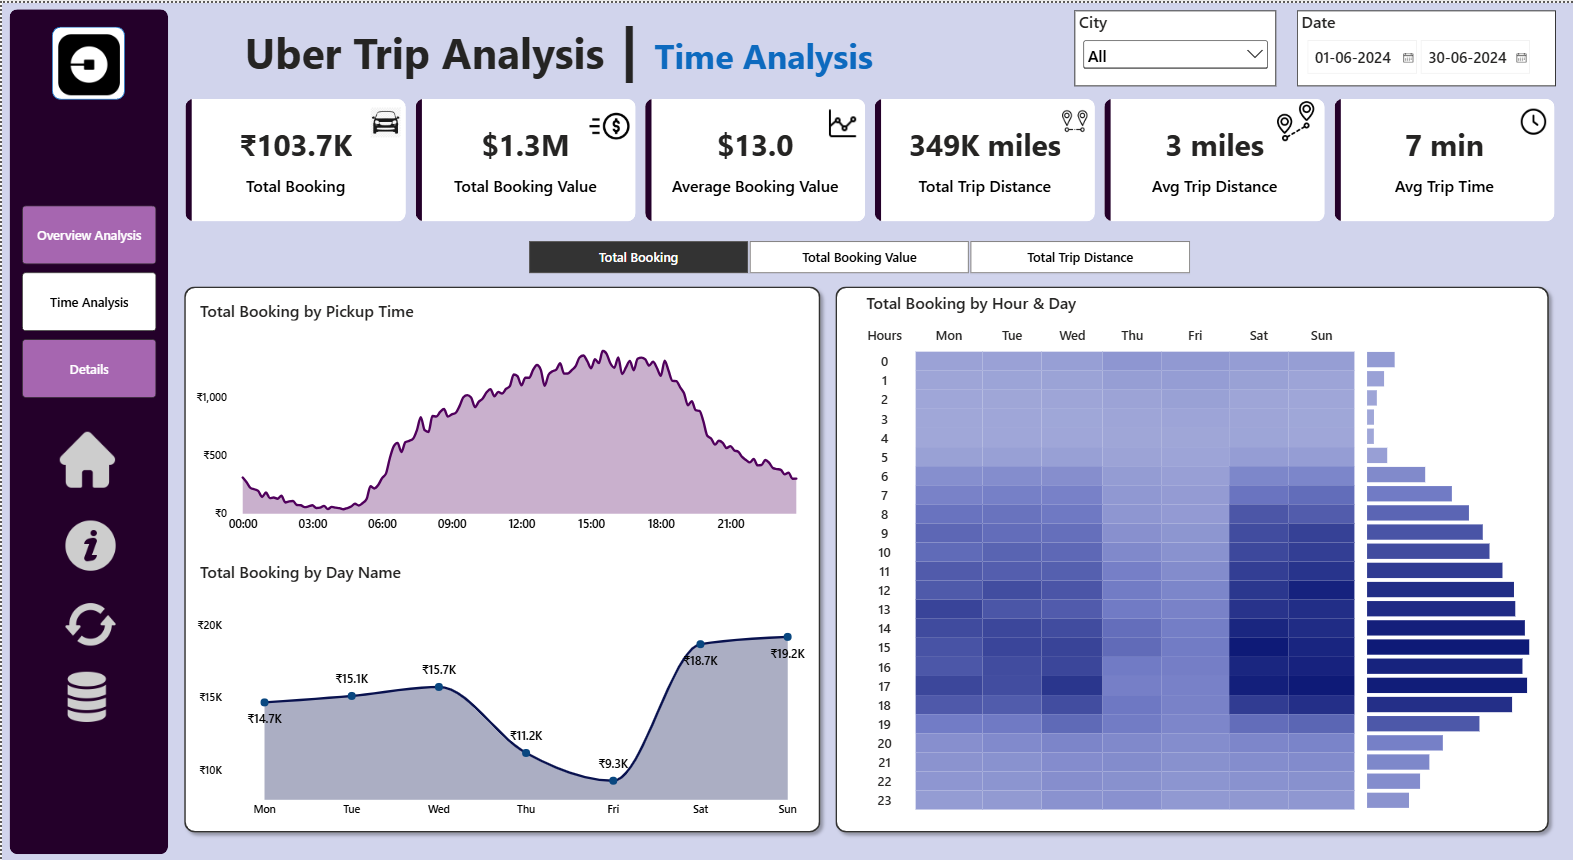

The dashboard page shown, as its layout file describes it:
{"tool":"powerbi","page":{"name":"Time Analysis","canvas":[1980,1080],"ordinal":1},"visuals":[{"type":"shape","box":[9,7.2,199.7,1063],"z":0},{"type":"shape","box":[63,30.6,91.7,91.7],"z":0,"group":"g1"},{"type":"slicer","title":"City","fields":{"Values":["Location Table.City"]},"box":[1349,9,253.6,95.3],"z":1000},{"type":"image","box":[70.2,37.8,77.3,80],"z":1000,"group":"g1"},{"type":"slicer","title":"Date","fields":{"Values":["Calendar.Date"]},"box":[1629.6,9,325.6,95.3],"z":2000},{"type":"textbox","box":[219.4,0,960.5,129.5],"z":3000},{"type":"cardVisual","fields":{"Data":["Trip Details.Total Booking","Trip Details.Total Booking Value","Trip Details.Average Booking Value","Trip Details.Total Trip Distance","Trip Details.Avg Trip Distance","Trip Details.Avg Trip Time"]},"box":[214,104.3,1760.9,188.9],"z":4000},{"type":"shape","box":[219.4,347.1,818.4,705.1],"z":5000},{"type":"slicer","fields":{"Values":["Dynamic Messure .Dynamic Messure "]},"box":[636.7,293.2,881.4,54],"z":6000},{"type":"image","box":[739.3,129.5,50.4,52.2],"z":7000},{"type":"image","box":[1037.8,129.5,39.6,45],"z":8000},{"type":"image","box":[1332.8,129.5,32.4,39.6],"z":9000},{"type":"image","box":[1604.4,122.3,50.4,52.2],"z":10000},{"type":"image","box":[1910.2,131.3,32.4,37.8],"z":11000},{"type":"image","box":[464.1,125.9,37.8,48.6],"z":12000},{"type":"areaChart","fields":{"Y":["Trip Details.Total Booking"],"Category":["Trip Details.Pickup Time (bins)"]},"box":[239.2,422.7,782.4,253.6],"z":13000},{"type":"cardVisual","fields":{"Data":["Trip Details.Titel for pickup time"]},"box":[219.4,347.1,401.1,75.5],"z":14000},{"type":"areaChart","fields":{"Y":["Trip Details.Total Booking"],"Category":["Calendar.Day Name"]},"box":[241,768,796.8,266.2],"z":15000},{"type":"cardVisual","fields":{"Data":["Trip Details.Titel for Day Name"]},"box":[219.4,676.3,395.7,75.5],"z":16000},{"type":"shape","box":[1039.6,347.1,915.5,705.1],"z":17000},{"type":"pivotTable","fields":{"Values":["Trip Details.Total Booking"],"Rows":["Trip Details.Pickup Hours"],"Columns":["Calendar.Day Name"]},"box":[1066.6,399.3,645.7,634.9],"z":18000},{"type":"barChart","fields":{"Y":["Trip Details.Total Booking"],"Category":["Trip Details.Pickup Hours"]},"box":[1712.4,426.3,214,591.8],"z":19000},{"type":"cardVisual","fields":{"Data":["Trip Details.Titel for Hour & Day"]},"box":[1057.6,338.2,401.1,75.5],"z":20000},{"type":"group","id":"g1","title":"Group 1","box":[63,30.6,91.7,91.7],"z":21000},{"type":"pageNavigator","box":[25.2,255.4,169.1,244.6],"z":22000},{"type":"image","box":[54,539.6,107.9,70.1],"z":23000},{"type":"image","box":[57.6,651.1,106.1,63],"z":24000},{"type":"image","box":[57.6,750.1,106.1,63],"z":25000},{"type":"image","box":[54,841.8,106.1,63],"z":26000}]}

Visuals, with their boxes on the page's 1980x1080 design canvas (x1, y1, x2, y2). These are canvas units, not pixel positions in the 1573x860 screenshot, which may show the page scaled, cropped or inside an application window:
shape: {"left": 9, "top": 7, "right": 209, "bottom": 1070}
shape: {"left": 63, "top": 31, "right": 155, "bottom": 122}
"City" slicer: {"left": 1349, "top": 9, "right": 1603, "bottom": 104}
image: {"left": 70, "top": 38, "right": 148, "bottom": 118}
"Date" slicer: {"left": 1630, "top": 9, "right": 1955, "bottom": 104}
textbox: {"left": 219, "top": 0, "right": 1180, "bottom": 130}
cardVisual - Trip Details.Total Booking x Trip Details.Total Booking Value: {"left": 214, "top": 104, "right": 1975, "bottom": 293}
shape: {"left": 219, "top": 347, "right": 1038, "bottom": 1052}
slicer - Dynamic Messure .Dynamic Messure : {"left": 637, "top": 293, "right": 1518, "bottom": 347}
image: {"left": 739, "top": 130, "right": 790, "bottom": 182}
image: {"left": 1038, "top": 130, "right": 1077, "bottom": 174}
image: {"left": 1333, "top": 130, "right": 1365, "bottom": 169}
image: {"left": 1604, "top": 122, "right": 1655, "bottom": 174}
image: {"left": 1910, "top": 131, "right": 1943, "bottom": 169}
image: {"left": 464, "top": 126, "right": 502, "bottom": 174}
areaChart - Trip Details.Total Booking x Trip Details.Pickup Time (bins): {"left": 239, "top": 423, "right": 1022, "bottom": 676}
cardVisual - Trip Details.Titel for pickup time: {"left": 219, "top": 347, "right": 620, "bottom": 423}
areaChart - Trip Details.Total Booking x Calendar.Day Name: {"left": 241, "top": 768, "right": 1038, "bottom": 1034}
cardVisual - Trip Details.Titel for Day Name: {"left": 219, "top": 676, "right": 615, "bottom": 752}
shape: {"left": 1040, "top": 347, "right": 1955, "bottom": 1052}
pivotTable - Trip Details.Total Booking x Trip Details.Pickup Hours: {"left": 1067, "top": 399, "right": 1712, "bottom": 1034}
barChart - Trip Details.Total Booking x Trip Details.Pickup Hours: {"left": 1712, "top": 426, "right": 1926, "bottom": 1018}
cardVisual - Trip Details.Titel for Hour & Day: {"left": 1058, "top": 338, "right": 1459, "bottom": 414}
"Group 1" group: {"left": 63, "top": 31, "right": 155, "bottom": 122}
pageNavigator: {"left": 25, "top": 255, "right": 194, "bottom": 500}
image: {"left": 54, "top": 540, "right": 162, "bottom": 610}
image: {"left": 58, "top": 651, "right": 164, "bottom": 714}
image: {"left": 58, "top": 750, "right": 164, "bottom": 813}
image: {"left": 54, "top": 842, "right": 160, "bottom": 905}
